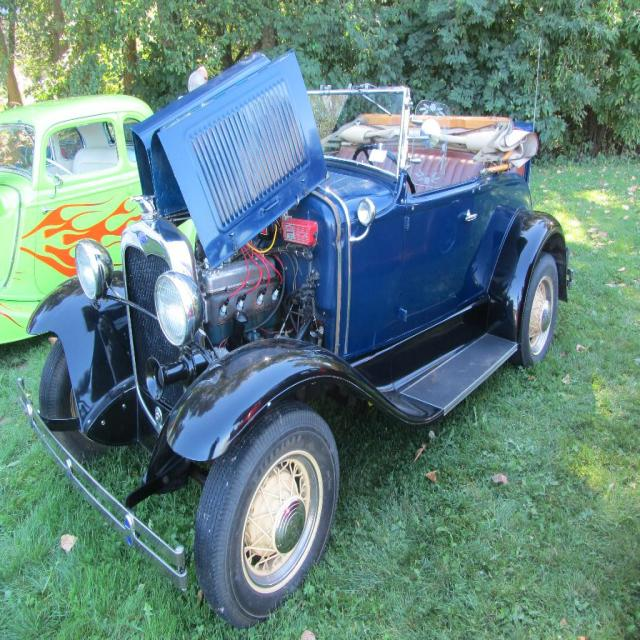car: (15, 36, 573, 630)
